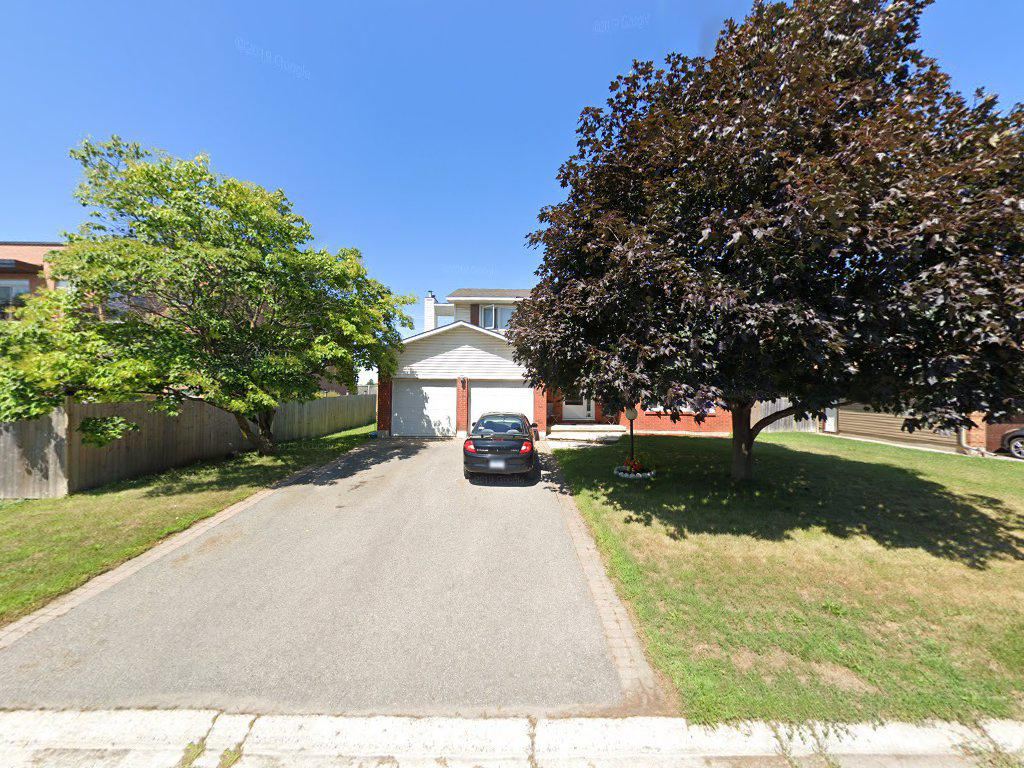trunk: (725, 391, 764, 484)
